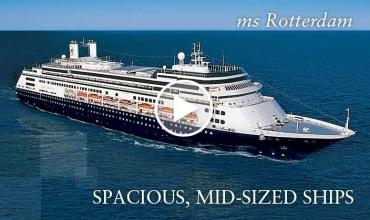youlun: (10, 25, 355, 162)
